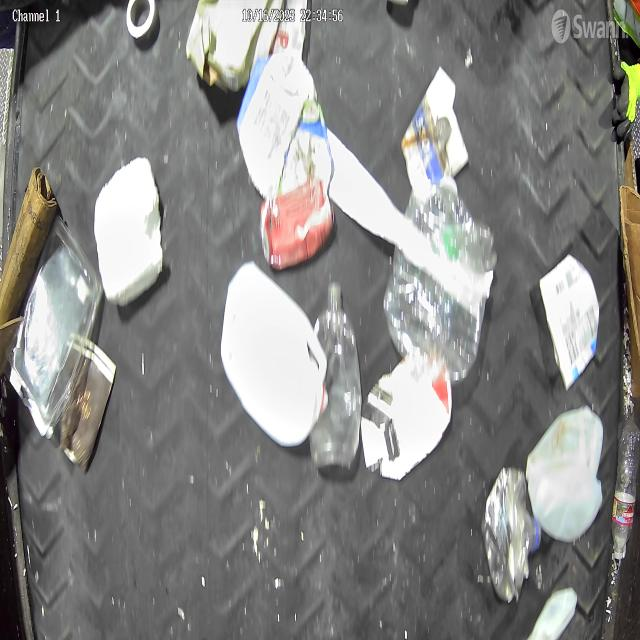can: (259, 177, 336, 269)
milk_jug: (220, 258, 330, 446), (525, 406, 605, 544)
plastic_bottle: (382, 168, 498, 384), (316, 277, 362, 465), (481, 464, 541, 603)
